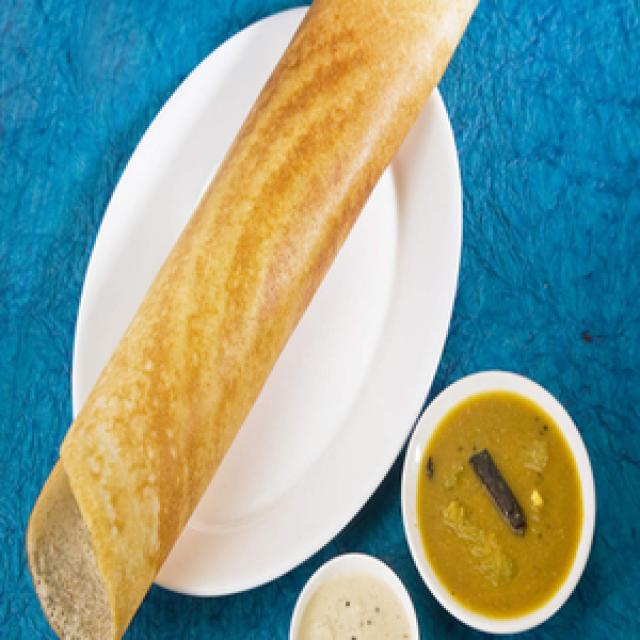dosa: (10, 0, 478, 640), (0, 0, 476, 623), (468, 0, 478, 74)
